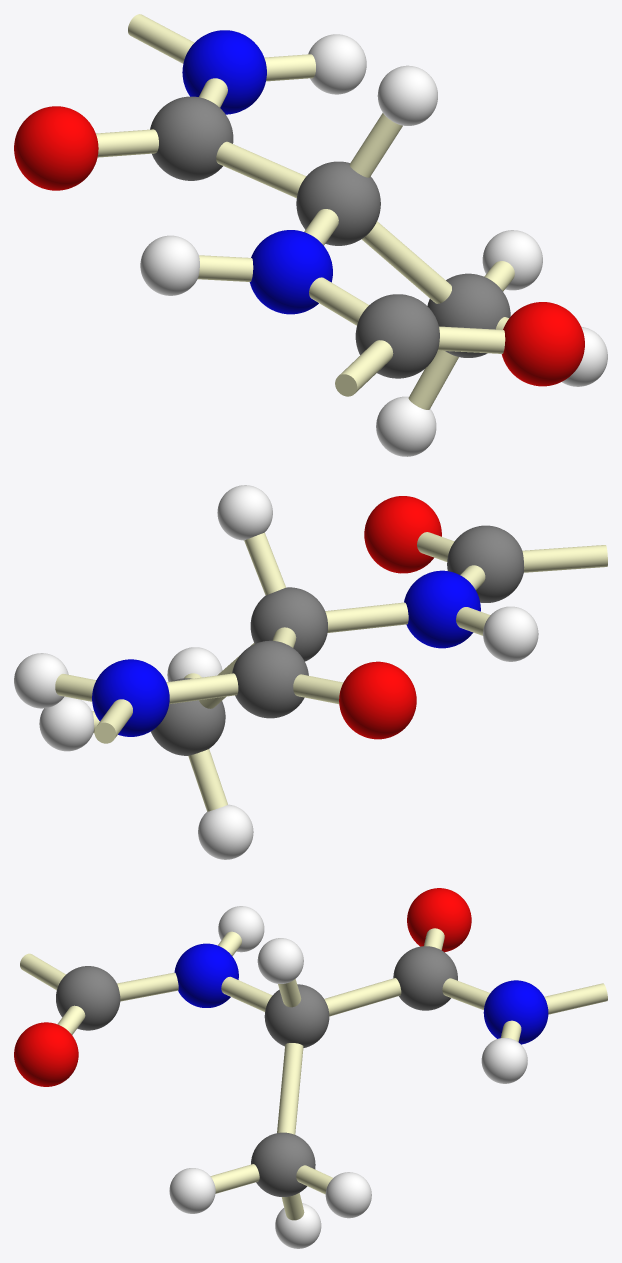
Rendered from conformation.gltf.
3 views of the same model, one above another, from view 1: azimuth 30°, elevation 25°; view 2: azimuth 150°, elevation 25°; view 3: azimuth 270°, elevation 25° (orthographic). The views are drawn at different scales.
Visible parts, largest first — view 1: ?????????6, ?????????2, ?????????5, ?????????3, ?????????1, ?????????13, ?????????4, ?????????9, ?????????7, ?????????8, ?????????12, ?????????14 (+14 smaller); view 2: ?????????6, ?????????5, ?????????2, ?????????3, ?????????13, ?????????1, ?????????4, ?????????9, ?????????7, ?????????8, ?????????12, ?????????11 (+12 smaller); view 3: ?????????2, ?????????3, ?????????5, ?????????1, ?????????9, ?????????13, ?????????6, ?????????4, ?????????22, ?????????10, ?????????14, ?????????8 (+11 smaller).
Boxes of the visible parts, x1=… form: ?????????6: x1=14, y1=106, x2=98, y2=190; ?????????2: x1=501, y1=302, x2=584, y2=386; ?????????5: x1=150, y1=96, x2=233, y2=180; ?????????3: x1=249, y1=230, x2=332, y2=314; ?????????1: x1=355, y1=294, x2=439, y2=378; ?????????13: x1=182, y1=30, x2=266, y2=114; ?????????4: x1=296, y1=161, x2=380, y2=245; ?????????9: x1=427, y1=273, x2=510, y2=357; ?????????7: x1=140, y1=235, x2=199, y2=295; ?????????8: x1=377, y1=65, x2=437, y2=125; ?????????12: x1=376, y1=396, x2=436, y2=456; ?????????14: x1=308, y1=34, x2=366, y2=94; ?????????6: x1=339, y1=661, x2=416, y2=739; ?????????5: x1=232, y1=640, x2=308, y2=718; ?????????2: x1=364, y1=496, x2=441, y2=573; ?????????3: x1=404, y1=570, x2=480, y2=648; ?????????13: x1=92, y1=659, x2=169, y2=736; ?????????1: x1=447, y1=525, x2=524, y2=602; ?????????4: x1=250, y1=587, x2=327, y2=661; ?????????9: x1=151, y1=678, x2=225, y2=755; ?????????7: x1=483, y1=606, x2=538, y2=661; ?????????8: x1=217, y1=485, x2=272, y2=540; ?????????12: x1=198, y1=804, x2=253, y2=859; ?????????11: x1=39, y1=696, x2=94, y2=751; ?????????2: x1=14, y1=1022, x2=78, y2=1086; ?????????3: x1=174, y1=943, x2=238, y2=1007; ?????????5: x1=393, y1=946, x2=457, y2=1010; ?????????1: x1=56, y1=966, x2=120, y2=1030; ?????????9: x1=251, y1=1132, x2=315, y2=1196; ?????????13: x1=483, y1=980, x2=548, y2=1044; ?????????6: x1=407, y1=888, x2=471, y2=952; ?????????4: x1=264, y1=984, x2=329, y2=1047; ?????????22: x1=277, y1=1043, x2=303, y2=1134; ?????????10: x1=169, y1=1168, x2=215, y2=1213; ?????????14: x1=481, y1=1038, x2=527, y2=1083; ?????????8: x1=257, y1=938, x2=303, y2=983.
Bounding box in the file's own units: 44.42 × 36.17 × 64.3.
